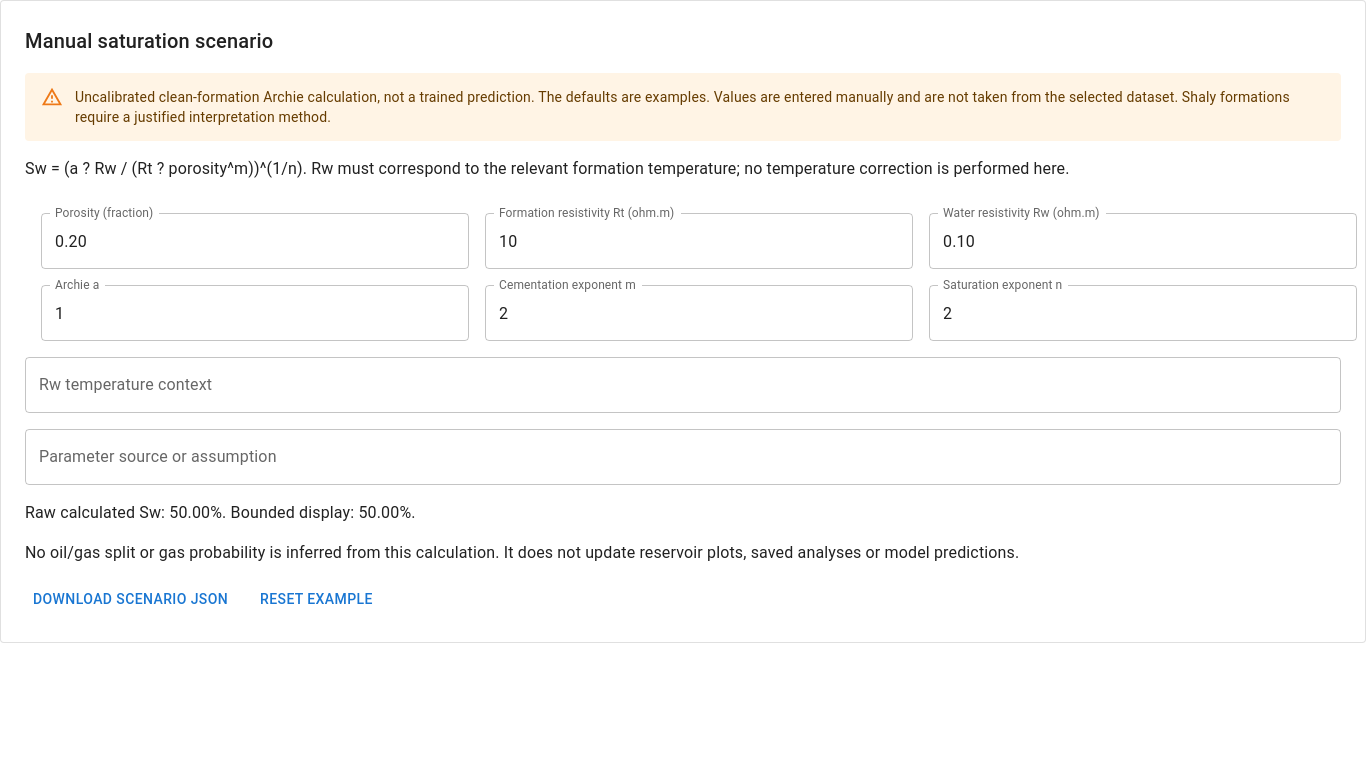
Test: updates scenarios, rejects blanks and resets the example
Expected: the message "Raw calculated Sw: 50.00%. Bounded display: 50.00%." is shown, top-left (25, 503), bottom-right (416, 522)
Replace the text in the number field labelled "Water resistivity Rw (ohm.m)" with "1" at (1143, 241), box top-left (929, 213), bottom-right (1357, 269)
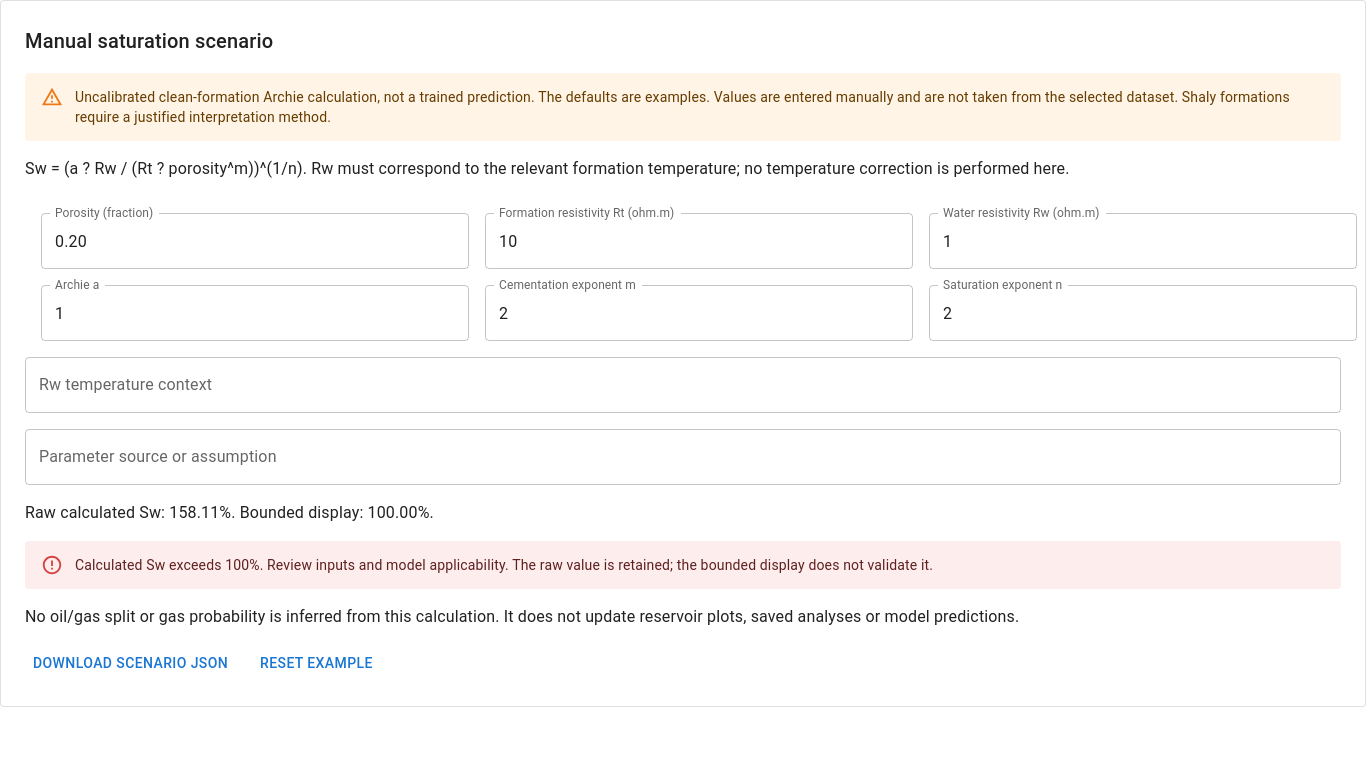
Expected: the text "Calculated Sw exceeds" is shown, top-left (75, 557), bottom-right (933, 573)
Clear the number field labelled "Porosity (fraction)" at (255, 241), box top-left (41, 213), bottom-right (469, 269)
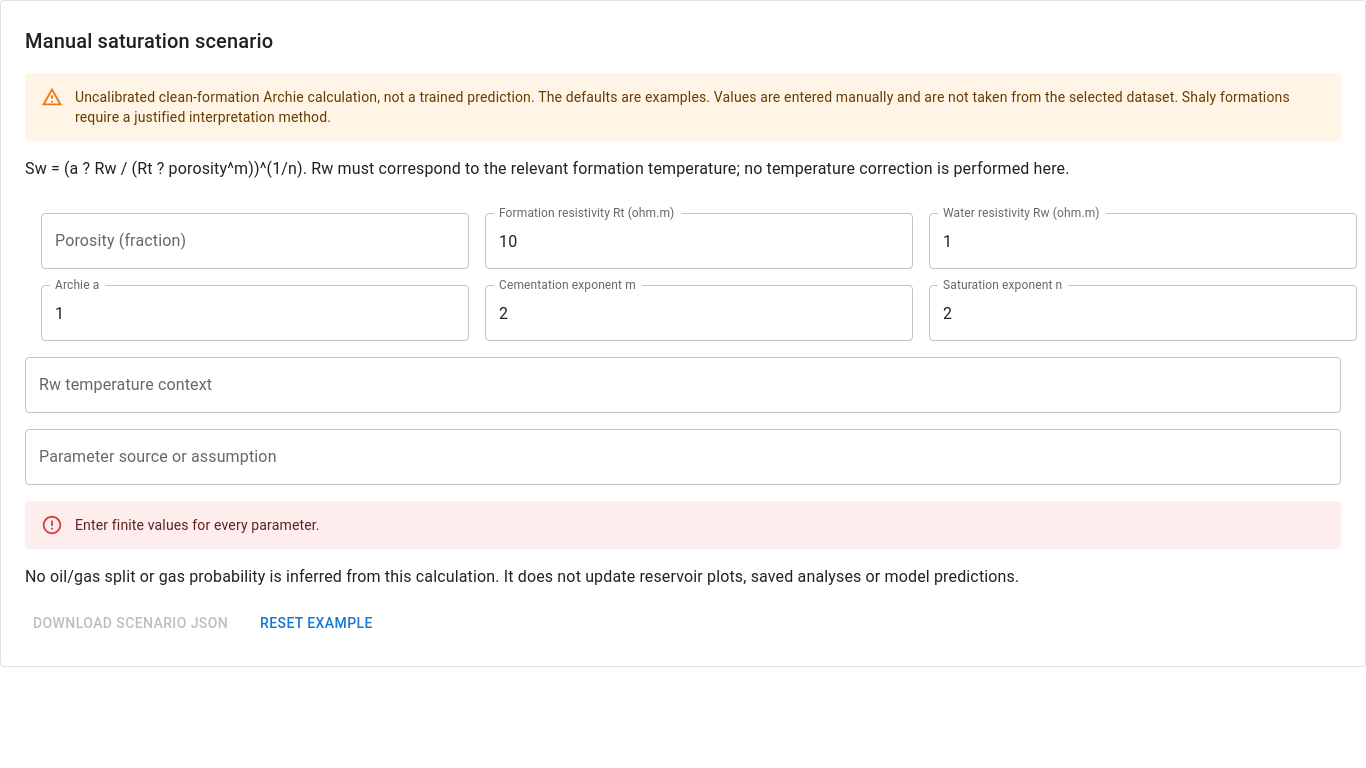
Expected: the message "Raw calculated Sw: 158.11%. Bounded display: 100.00%." is gone
Expected: the button "Download scenario JSON" is disabled, top-left (25, 605), bottom-right (236, 642)
Click the button "Reset example" at (316, 623), box top-left (252, 605), bottom-right (381, 642)
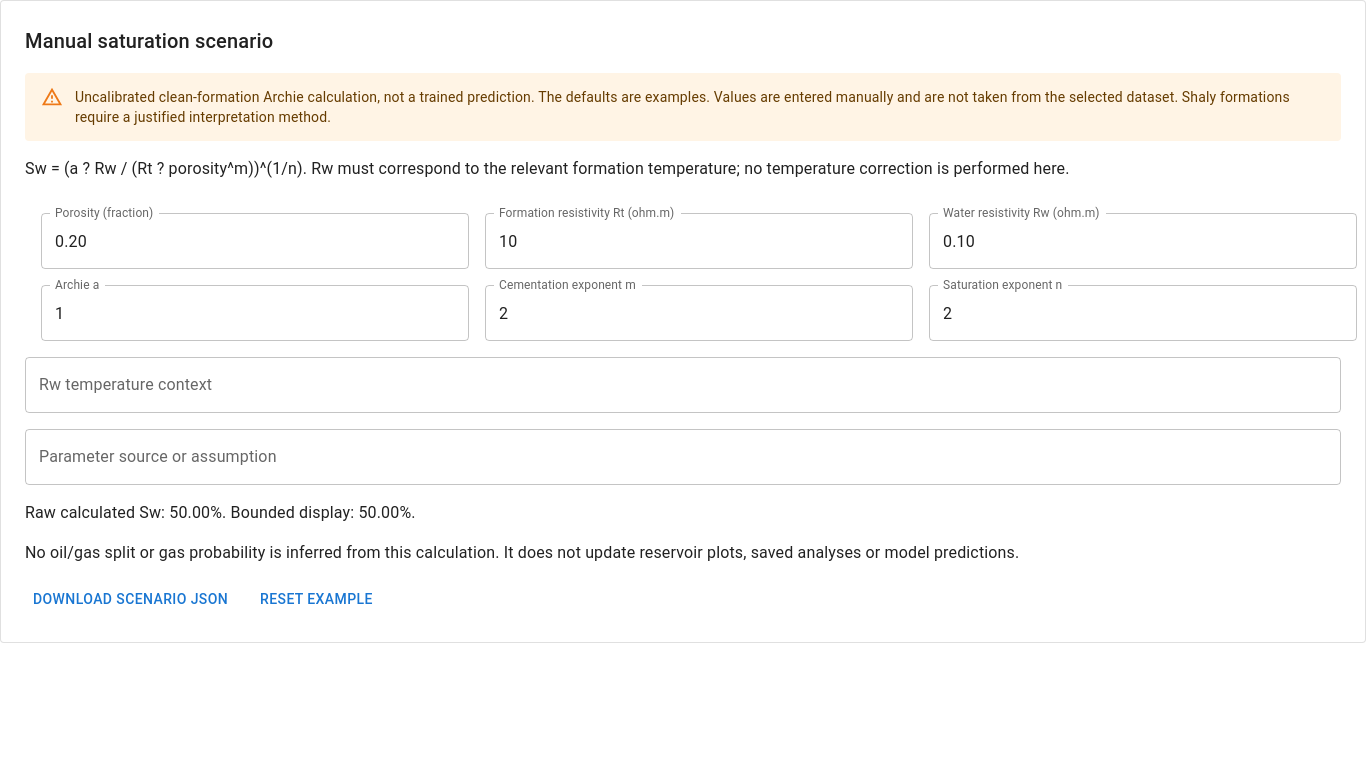
Expected: the message "Raw calculated Sw: 50.00%. Bounded display: 50.00%." is shown, top-left (25, 503), bottom-right (416, 522)
